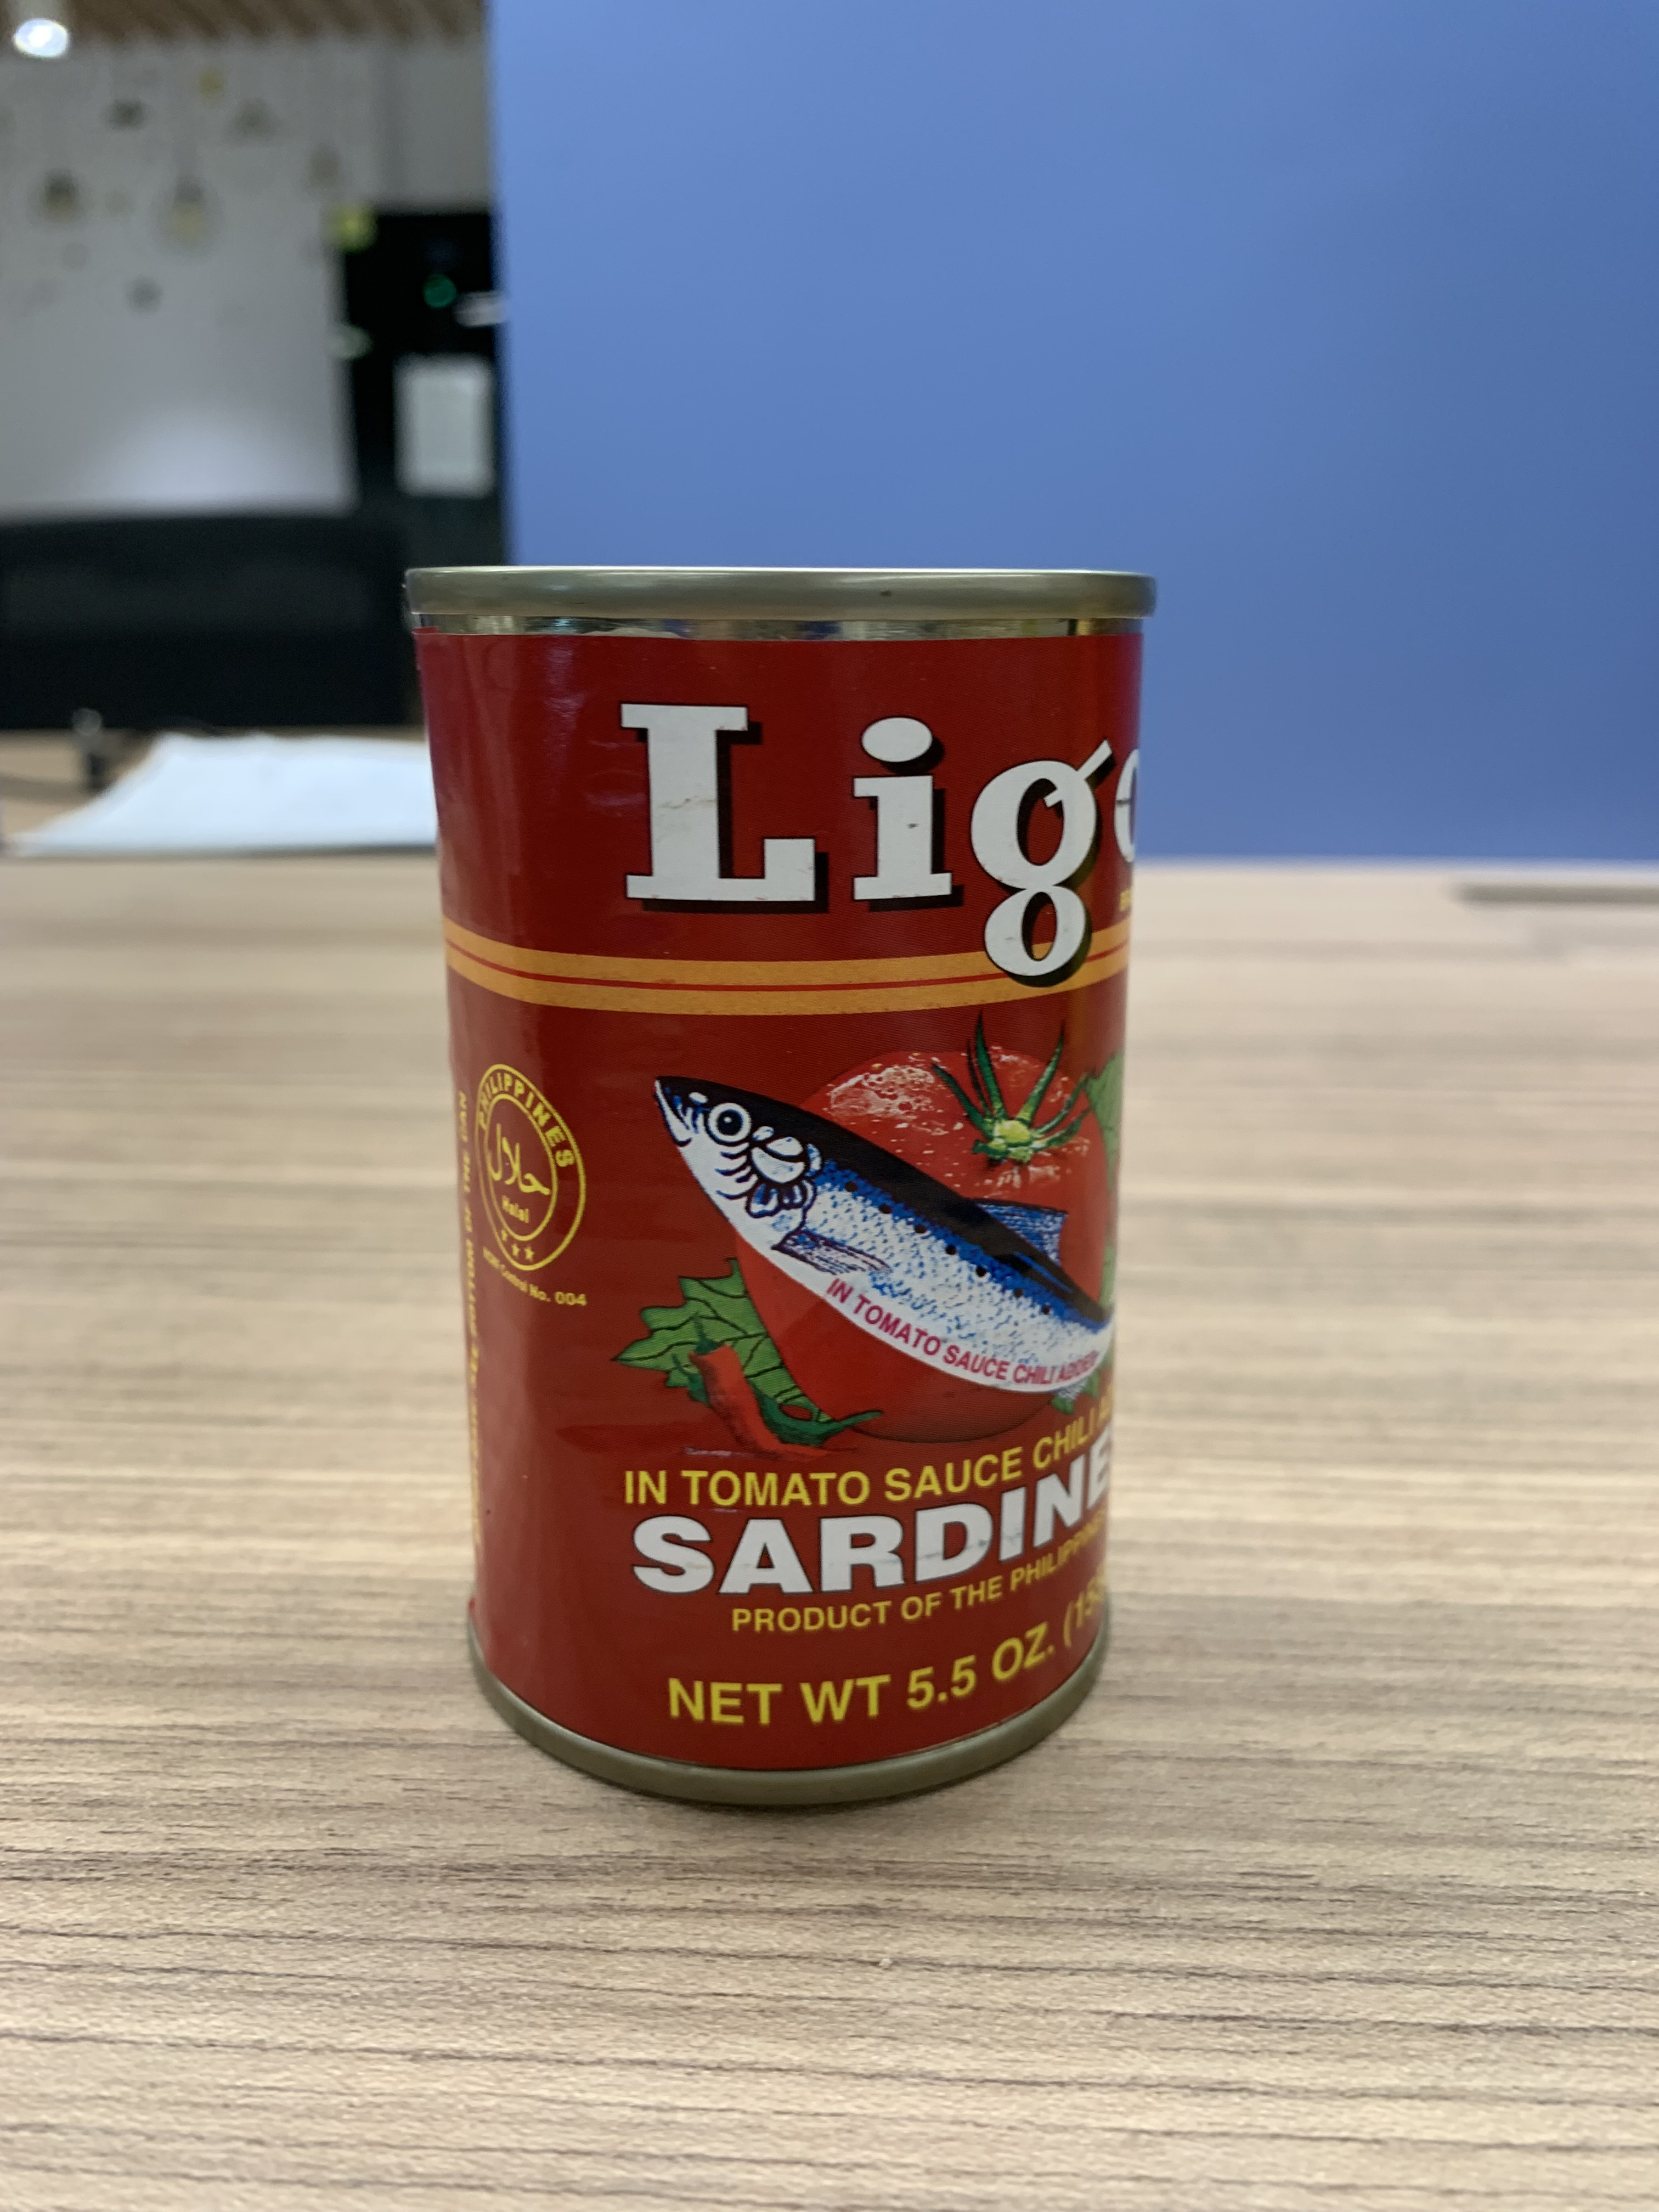sardines_100g-199g: (471, 639, 1119, 1717)
